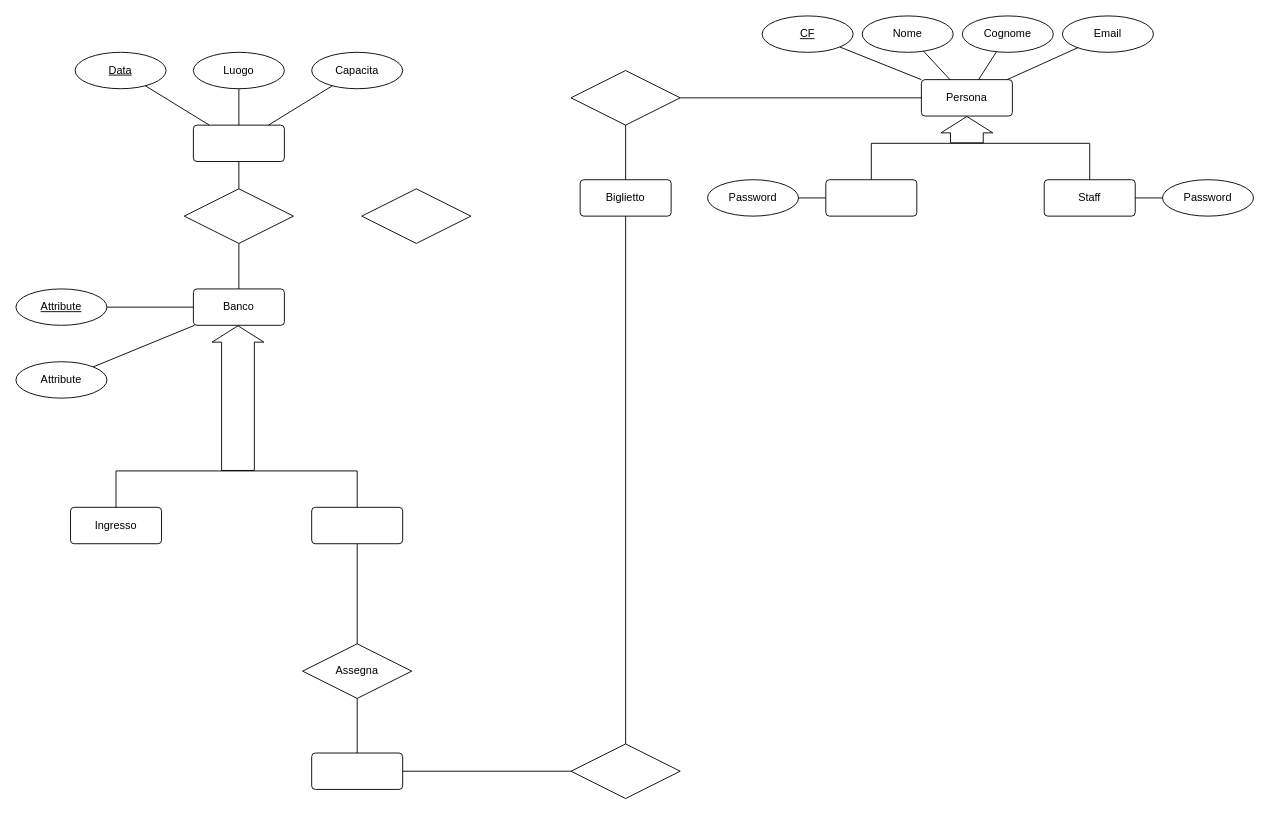
Some shapes in this 1269 by 814 pixel diagram are drawn without their labels. Here are the shapes that lost their labels. From the top down, the centre of each, then its label:
(x=625, y=97): DI
(x=238, y=143): Evento
(x=238, y=215): HA
(x=416, y=215): EB
(x=871, y=197): Organizzatore
(x=357, y=525): Guardaroba
(x=357, y=770): Gruccia
(x=625, y=771): Per
